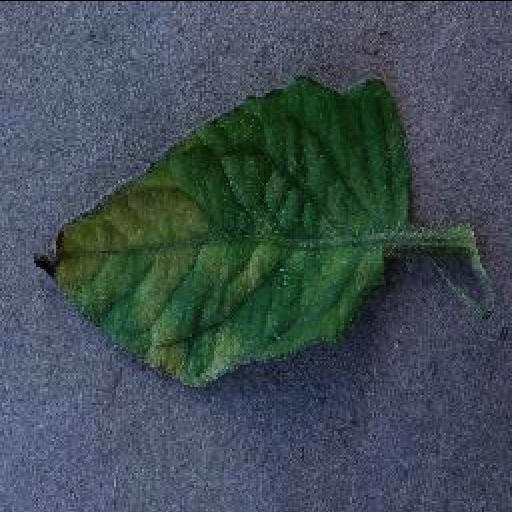disease_tomato: (32, 74, 412, 384)
